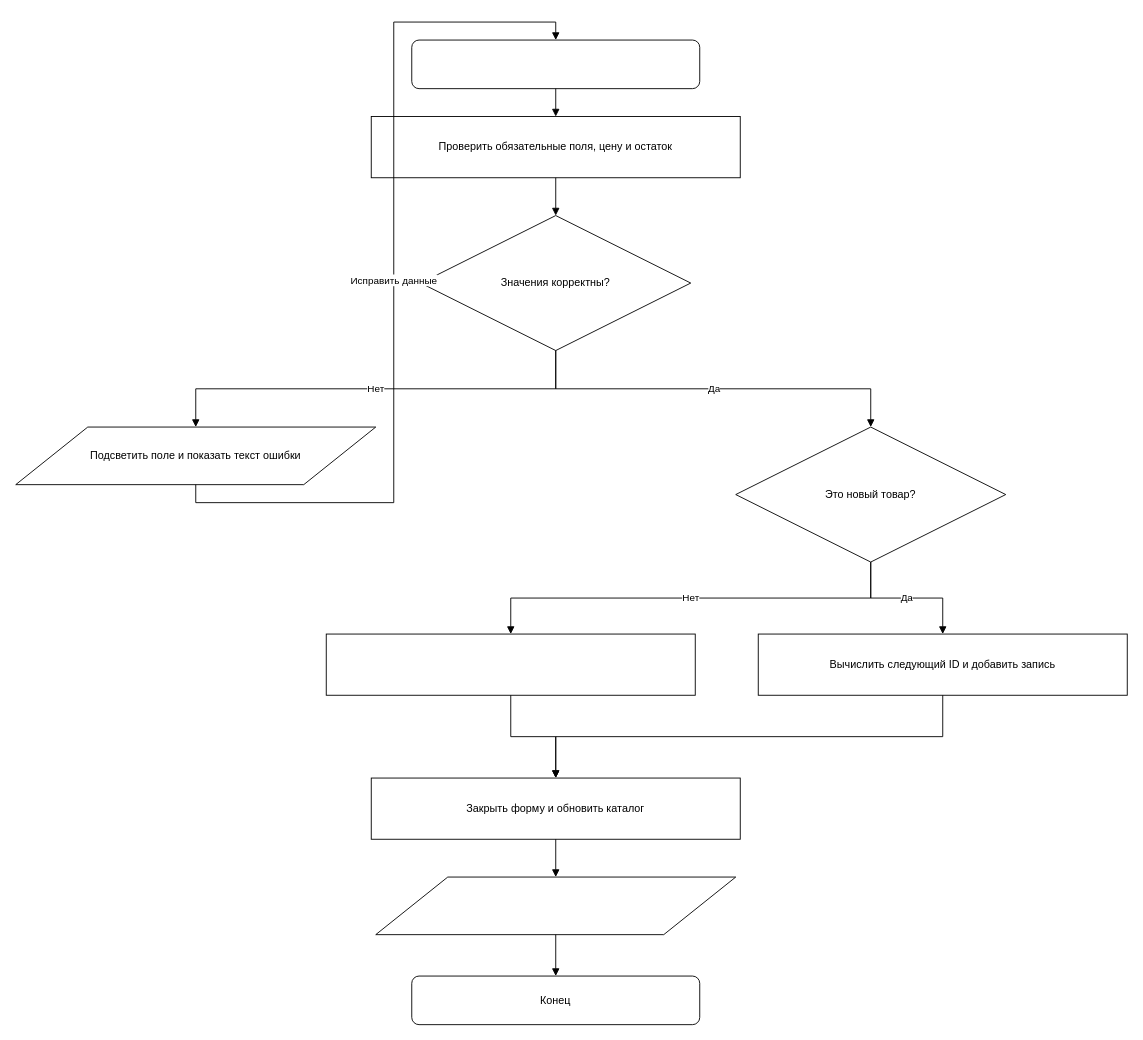
This 1143x1040 diagram has some shape labels left out. The box of each missing label's shape, as (x1, y1, x2, y2) in pixels:
Заполнена форма товара: (411, 39, 700, 89)
Обновить существующую запись: (325, 633, 695, 695)
Показать сообщение об успешном сохранении: (375, 876, 736, 935)
